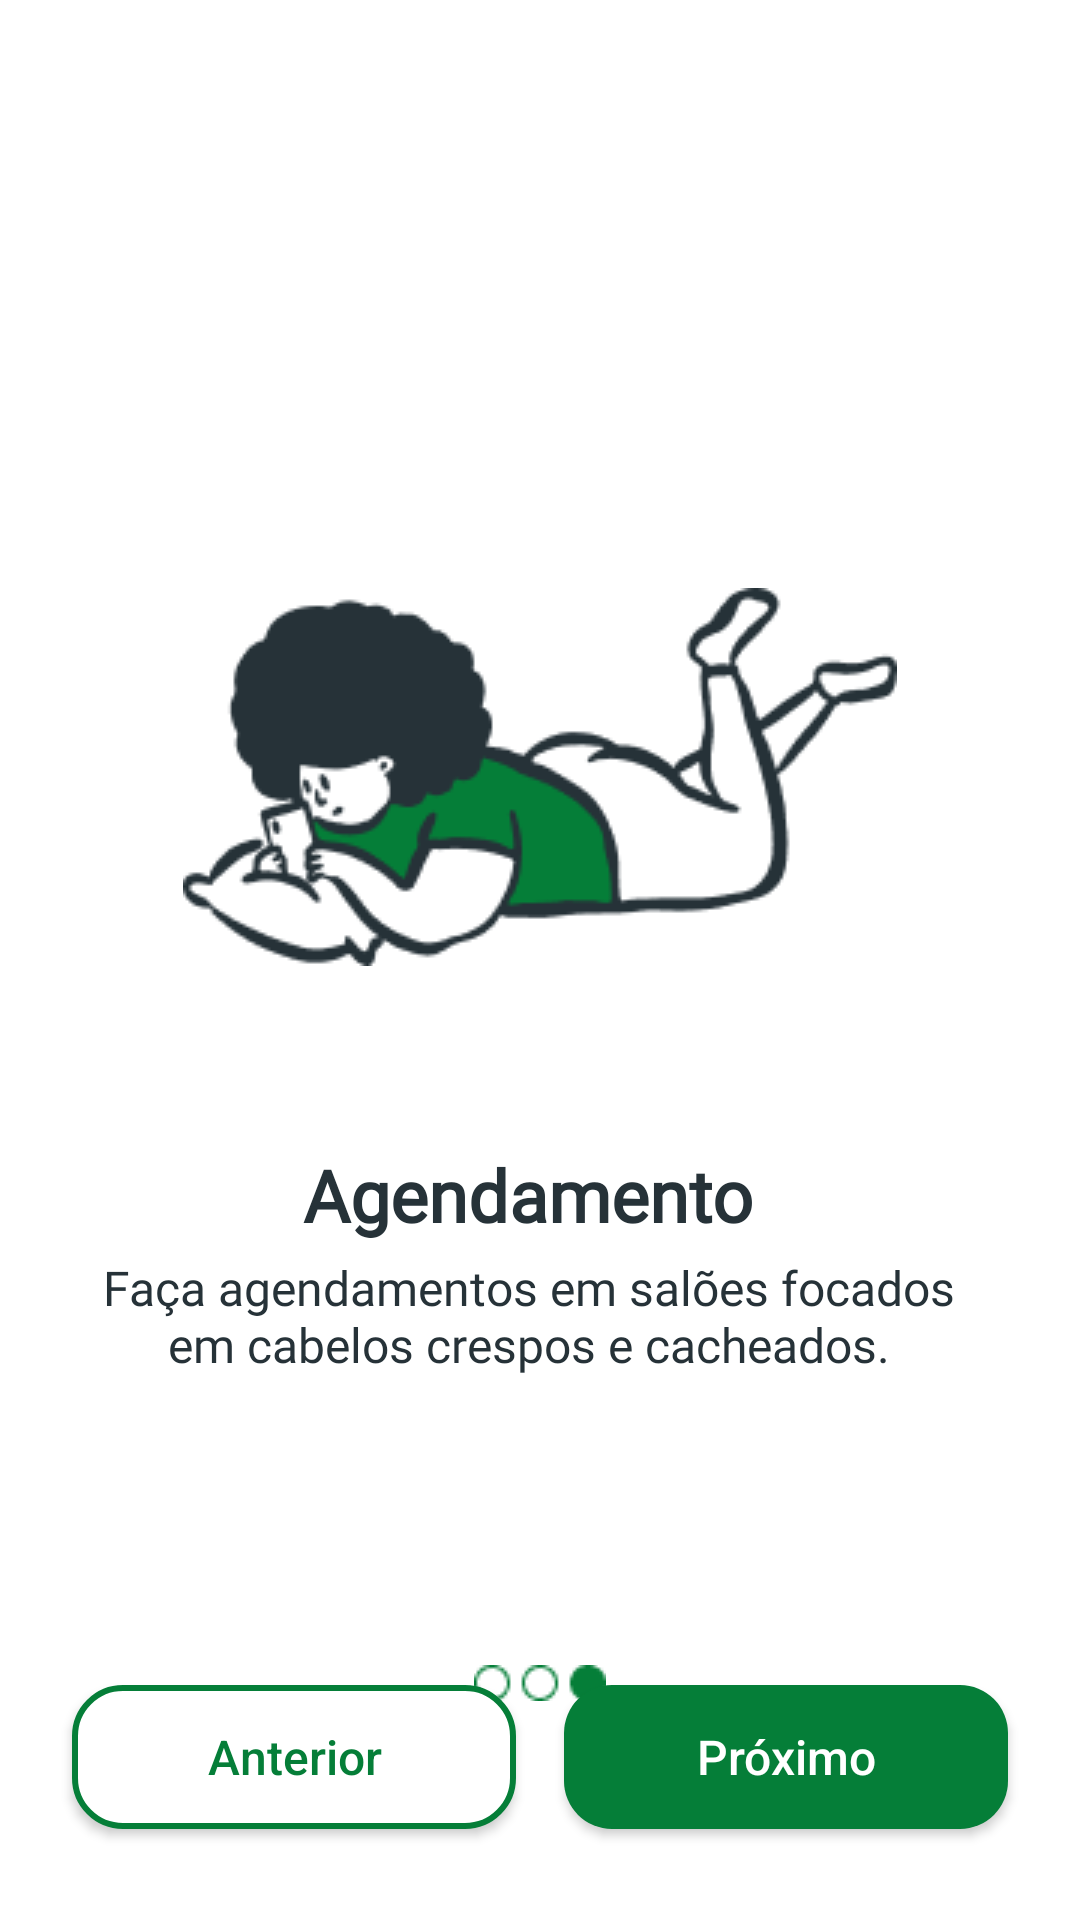

Icons on this 1080px x 1920px Android screen, each with its box as [x1=x1, y1=y1, x2=x2, y2=y2]:
page: [x1=474, y1=1665, x2=606, y2=1701]
